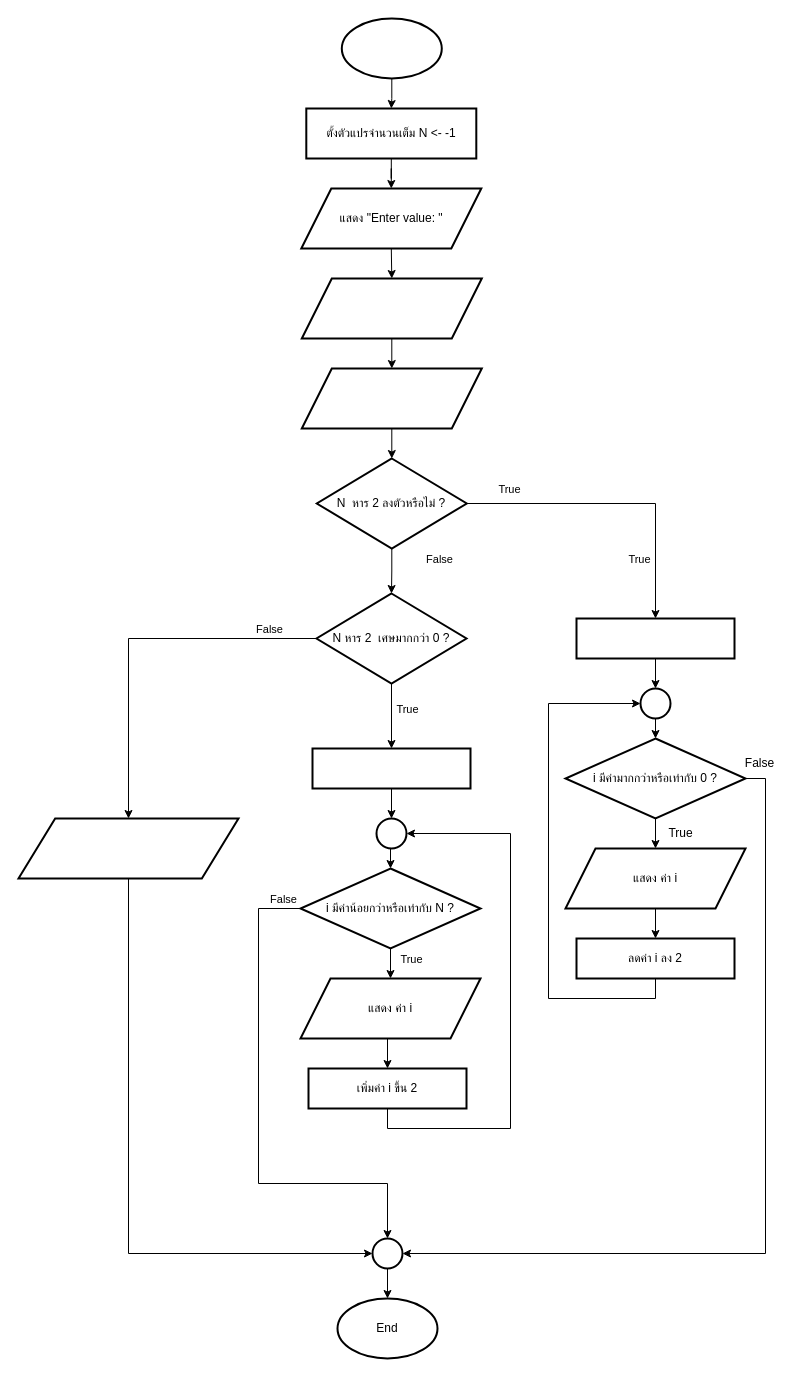
This 801x1376 diagram has some shape labels left out. The box of each missing label's shape, as (x1, y1, x2, y2) in pixels:
i <- 0: (311, 747, 471, 789)
i <- N: (575, 617, 735, 659)
Start: (340, 17, 442, 79)
รับค่าจำนวนเต็ม N: (300, 277, 482, 339)
แสดง "please enter number only.": (17, 817, 239, 879)
แสดง "Series: ": (300, 367, 482, 429)
